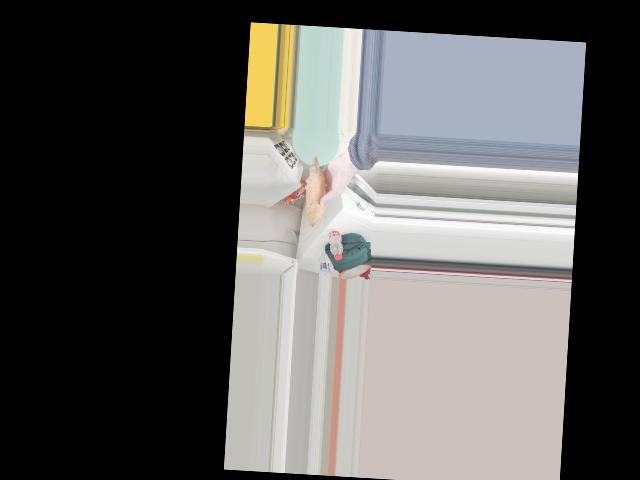sweet_potato: (305, 163, 325, 225)
